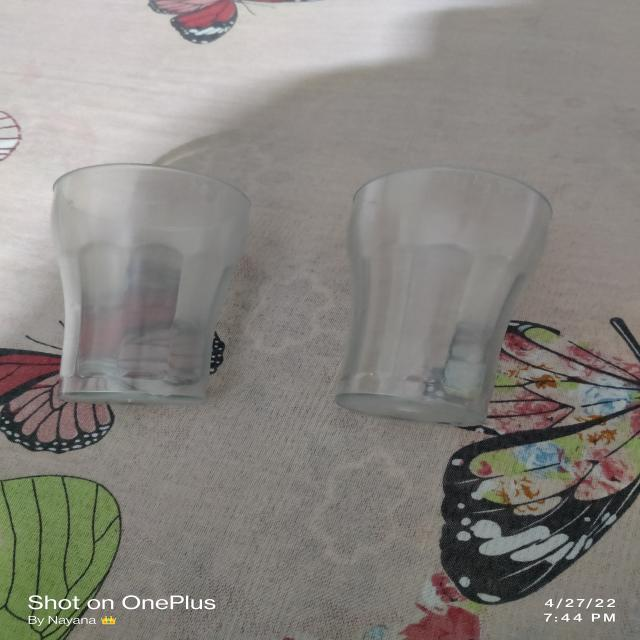Glass: (330, 162, 556, 429), (45, 159, 256, 406)
